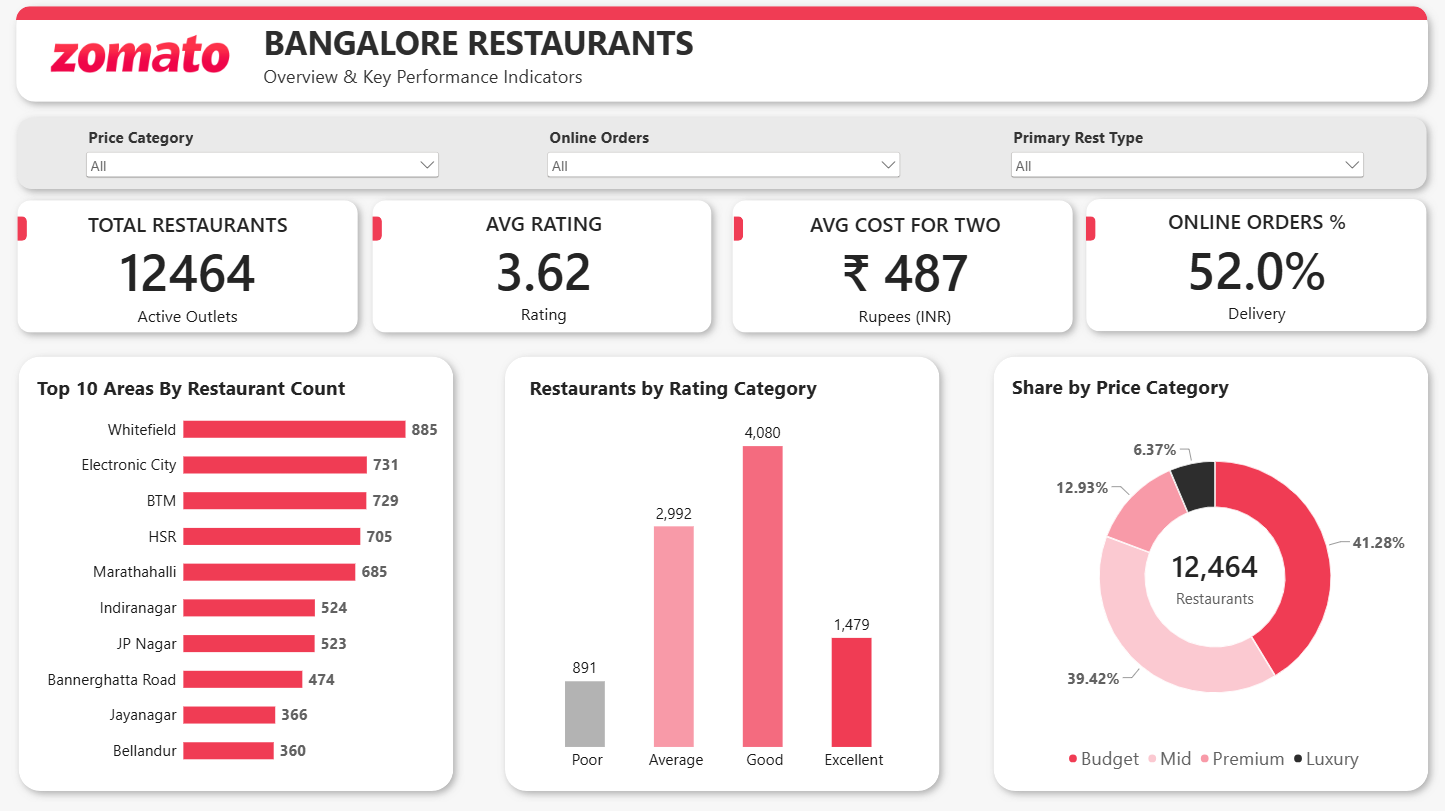

What the dashboard file says about the page in this screenshot:
{"tool":"powerbi","page":{"name":"Overview","canvas":[1920,1080],"ordinal":0},"visuals":[{"type":"shape","box":[1300,458.3,600,600],"z":0},{"type":"shape","box":[658.3,458.3,600,600],"z":1000},{"type":"shape","box":[1421.8,252.8,476.4,203.6],"z":2000},{"type":"shape","box":[20.8,458.3,600,600],"z":3000},{"type":"shape","box":[20,254.5,476.4,203.6],"z":4000},{"type":"shape","box":[485.5,254.5,474.5,203.6],"z":5000},{"type":"shape","box":[958.2,254.5,476.4,203.6],"z":6000},{"type":"shape","title":"Label shape","box":[20,145.5,1878.2,123.6],"z":7000,"group":"g2"},{"type":"cardVisual","title":"TOTAL RESTAURANTS","fields":{"Data":["restaurants.Total Restaurants"]},"box":[32.7,281.8,450.9,176.4],"z":7000},{"type":"shape","title":"Header shape","box":[18.4,0,1881.6,155.1],"z":8000,"group":"g1"},{"type":"cardVisual","title":"AVG RATING","fields":{"Data":["restaurants.Avg Rating"]},"box":[500,281,450.9,176.4],"z":8000},{"type":"textbox","title":"Header text box","box":[357.2,32.7,785.7,89.8],"z":9000,"group":"g1"},{"type":"cardVisual","title":"AVG COST FOR TWO","fields":{"Data":["restaurants.Avg Cost for Two"]},"box":[973.2,281.7,450.9,176.4],"z":9000},{"type":"image","title":"Header image","box":[34.7,10.2,322.4,134.7],"z":10000,"group":"g1"},{"type":"cardVisual","title":"ONLINE ORDERS %","fields":{"Data":["restaurants.Online Order %"]},"box":[1437.5,279.2,445.8,177.1],"z":10000},{"type":"shape","title":"Header line","box":[32.8,14.5,1850.9,18.2],"z":11000,"group":"g1"},{"type":"shape","box":[34.5,289.4,12.7,32.4],"z":11000},{"type":"slicer","title":"Label slicer 1","fields":{"Values":["restaurants.price_category"]},"box":[120,171,472.7,70.9],"z":12000,"group":"g2"},{"type":"shape","box":[500,289.4,12.7,32.4],"z":12000},{"type":"slicer","title":"Label slicer2","fields":{"Values":["restaurants.online_order"]},"box":[725.5,171,472.7,70.9],"z":13000,"group":"g2"},{"type":"shape","box":[973.2,289.4,12.7,32.4],"z":13000},{"type":"slicer","title":"Label slicer 3","fields":{"Values":["restaurants.primary_rest_type"]},"box":[1332.7,171,472.7,70.9],"z":14000,"group":"g2"},{"type":"shape","box":[1436.6,289.4,12.7,32.4],"z":14000},{"type":"clusteredBarChart","title":"Top 10 Areas By Restaurant Count","fields":{"Category":["restaurants.location"],"Y":["restaurants.Total Restaurants"]},"box":[43.8,483.3,558.3,554.2],"z":15000},{"type":"clusteredColumnChart","title":"Restaurants by Rating Category","fields":{"Category":["restaurants.rating_category"],"Y":["restaurants.Total Restaurants"]},"box":[689.6,483.3,533.3,554.2],"z":16000},{"type":"donutChart","title":"  Share by Price Category","fields":{"Category":["restaurants.price_category"],"Y":["restaurants.Total Restaurants"]},"box":[1322.9,481.2,564.6,554.2],"z":17000},{"type":"group","id":"g1","title":"Group 1","box":[18.4,0,1881.6,155.1],"z":18000},{"type":"group","id":"g2","title":"Group 2","box":[20,145.5,1878.2,123.6],"z":19000}]}

Visuals, with their boxes in screenshot pixels (x1, y1, x2, y2), scaled from the page's 1920x1080 canvas onto the 1445x811 screenshot:
shape: <box>978,344,1430,795</box>
shape: <box>495,344,947,795</box>
shape: <box>1070,190,1429,343</box>
shape: <box>16,344,467,795</box>
shape: <box>15,191,374,344</box>
shape: <box>365,191,722,344</box>
shape: <box>721,191,1080,344</box>
"Label shape" shape: <box>15,109,1429,202</box>
"TOTAL RESTAURANTS" cardVisual: <box>25,212,364,344</box>
"Header shape" shape: <box>14,0,1430,116</box>
"AVG RATING" cardVisual: <box>376,211,716,343</box>
"Header text box" textbox: <box>269,25,860,92</box>
"AVG COST FOR TWO" cardVisual: <box>732,212,1072,344</box>
"Header image" image: <box>26,8,269,109</box>
"ONLINE ORDERS %" cardVisual: <box>1082,210,1417,343</box>
"Header line" shape: <box>25,11,1418,25</box>
shape: <box>26,217,36,242</box>
"Label slicer 1" slicer: <box>90,128,446,182</box>
shape: <box>376,217,386,242</box>
"Label slicer2" slicer: <box>546,128,902,182</box>
shape: <box>732,217,742,242</box>
"Label slicer 3" slicer: <box>1003,128,1359,182</box>
shape: <box>1081,217,1091,242</box>
"Top 10 Areas By Restaurant Count" clusteredBarChart: <box>33,363,453,779</box>
"Restaurants by Rating Category" clusteredColumnChart: <box>519,363,920,779</box>
"  Share by Price Category" donutChart: <box>996,361,1421,778</box>
"Group 1" group: <box>14,0,1430,116</box>
"Group 2" group: <box>15,109,1429,202</box>
